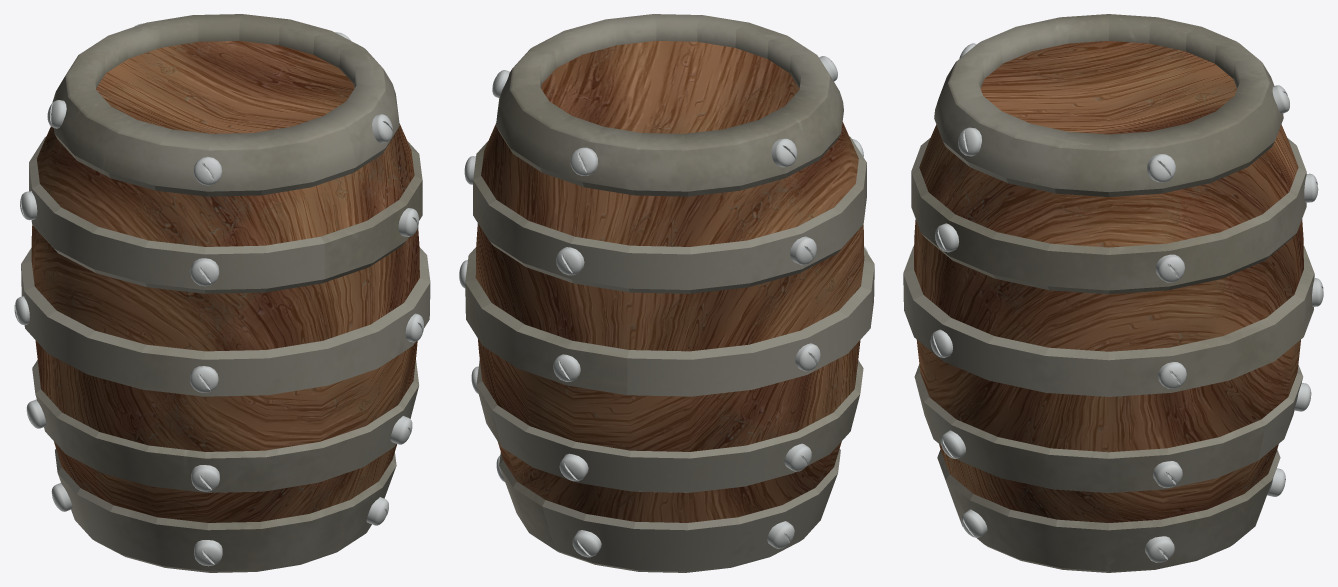
File: Barrel.fbx
The picture shows the model from 3 angles, left to right: view 1: azimuth 30°, elevation 25°; view 2: azimuth 150°, elevation 25°; view 3: azimuth 270°, elevation 25°; orthographic projection.
Parts seen in each view (by area): view 1: barrel, table_screw31, table_screw36, table_screw21, table_screw26, table_screw12; view 2: barrel, table_screw19, table_screw18, table_screw16, table_screw17, table_screw35, table_screw30, table_screw10, table_screw20, table_screw25, table_screw11; view 3: barrel, table_screw38, table_screw33, table_screw23, table_screw28, table_screw14, table_screw37, table_screw32, table_screw27, table_screw22.
Part boxes in pixels (bbox=[...]): barrel: bbox=[21, 14, 430, 572]; table_screw31: bbox=[190, 258, 219, 286]; table_screw36: bbox=[193, 156, 222, 185]; table_screw21: bbox=[191, 465, 219, 491]; table_screw26: bbox=[194, 540, 222, 566]; table_screw12: bbox=[190, 366, 218, 392]; barrel: bbox=[465, 14, 874, 572]; table_screw19: bbox=[570, 147, 597, 175]; table_screw18: bbox=[556, 247, 584, 275]; table_screw16: bbox=[559, 453, 588, 481]; table_screw17: bbox=[572, 530, 601, 557]; table_screw35: bbox=[771, 138, 797, 167]; table_screw30: bbox=[790, 236, 816, 265]; table_screw10: bbox=[553, 354, 580, 381]; table_screw20: bbox=[784, 443, 811, 471]; table_screw25: bbox=[767, 521, 794, 548]; table_screw11: bbox=[795, 343, 820, 371]; barrel: bbox=[903, 14, 1314, 572]; table_screw38: bbox=[1147, 154, 1175, 182]; table_screw33: bbox=[1155, 254, 1185, 282]; table_screw23: bbox=[1153, 461, 1182, 487]; table_screw28: bbox=[1145, 536, 1174, 562]; table_screw14: bbox=[1158, 362, 1186, 388]; table_screw37: bbox=[958, 127, 981, 156]; table_screw32: bbox=[935, 223, 959, 252]; table_screw27: bbox=[961, 509, 987, 537]; table_screw22: bbox=[940, 430, 965, 458].
Size of the model in its own units: 2.31 by 2.68 by 2.36.
